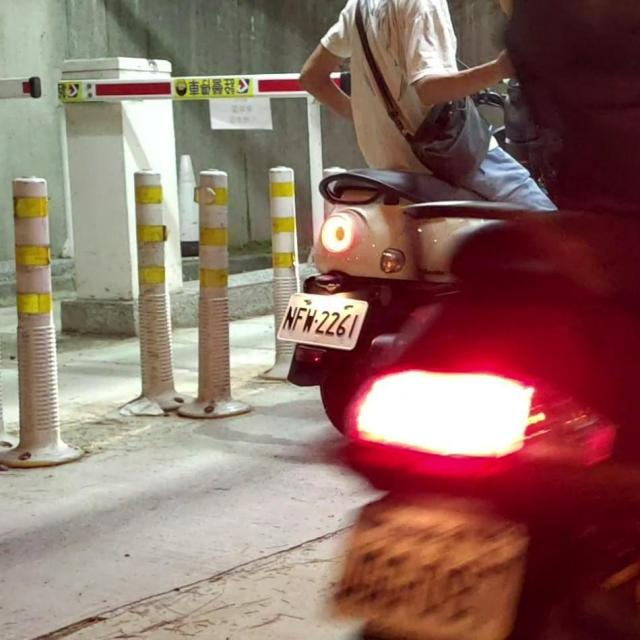W: (325, 496, 532, 640), (276, 291, 368, 349)
